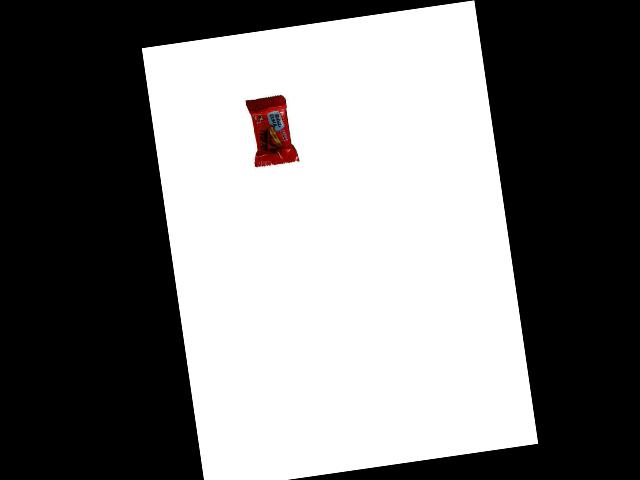chocolate: (245, 87, 303, 168)
